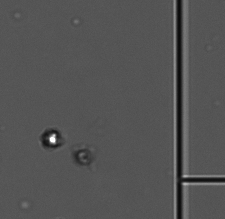Dead Cell: (72, 147, 94, 166)
Living Cell: (39, 127, 62, 150)
